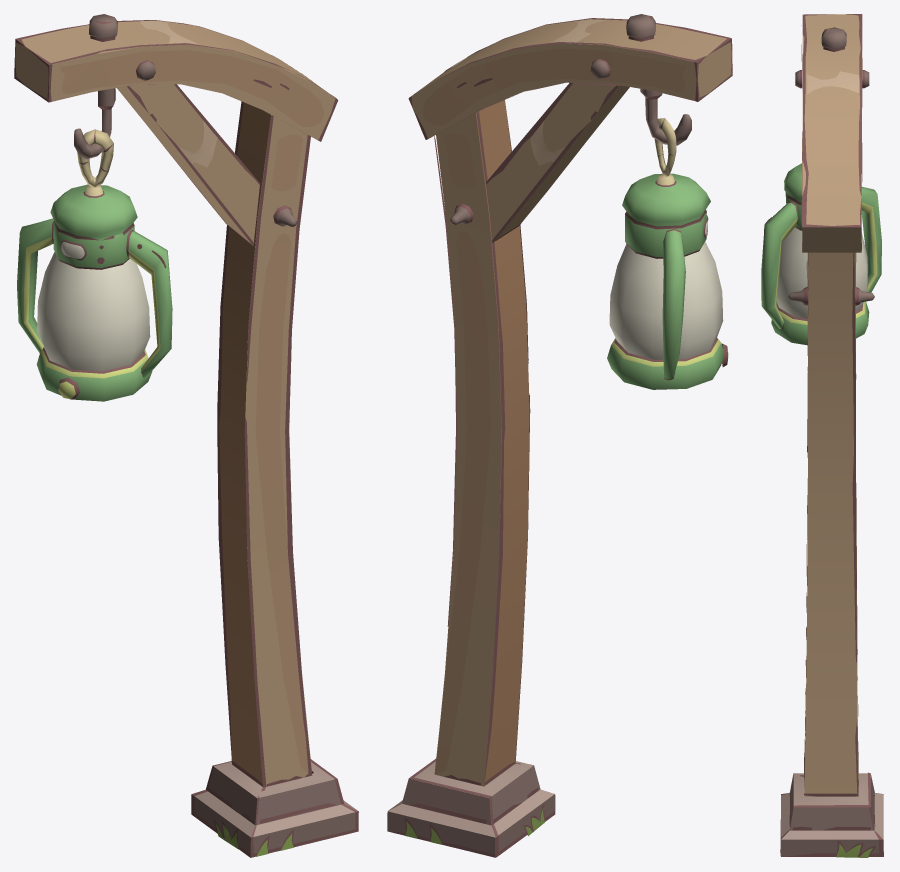
Rendered from Mesh_Home_B_Idyll_4_SM.FBX.
3 renders of one model, left to right at view 1: azimuth 30°, elevation 25°; view 2: azimuth 150°, elevation 25°; view 3: azimuth 270°, elevation 25°, orthographic. The views are drawn at different scales.
Parts seen in each view (by area): view 1: Mesh_Home_B_Idyll_4; view 2: Mesh_Home_B_Idyll_4; view 3: Mesh_Home_B_Idyll_4.
Part boxes in pixels (box(x1,y1,x2,y2)): Mesh_Home_B_Idyll_4: box(14, 14, 358, 857); Mesh_Home_B_Idyll_4: box(387, 14, 732, 857); Mesh_Home_B_Idyll_4: box(761, 14, 883, 857).
Bounding box in the file's own units: 92.94 × 250 × 38.56.
